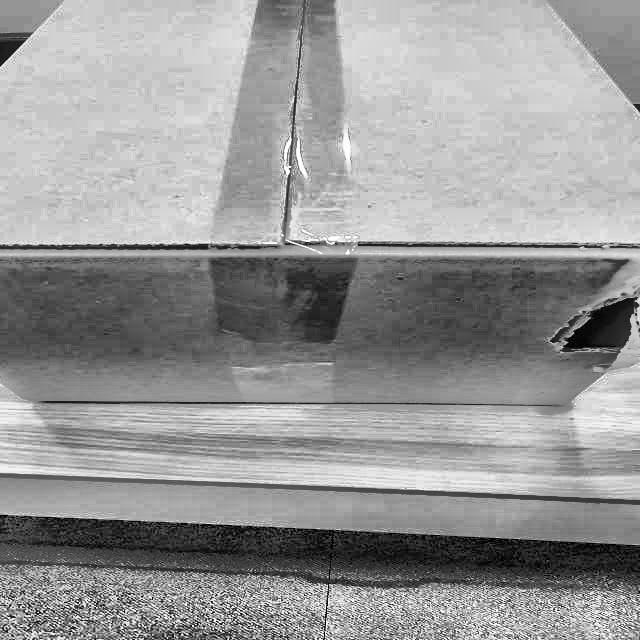box: (0, 2, 639, 418)
hole: (556, 290, 640, 359)
